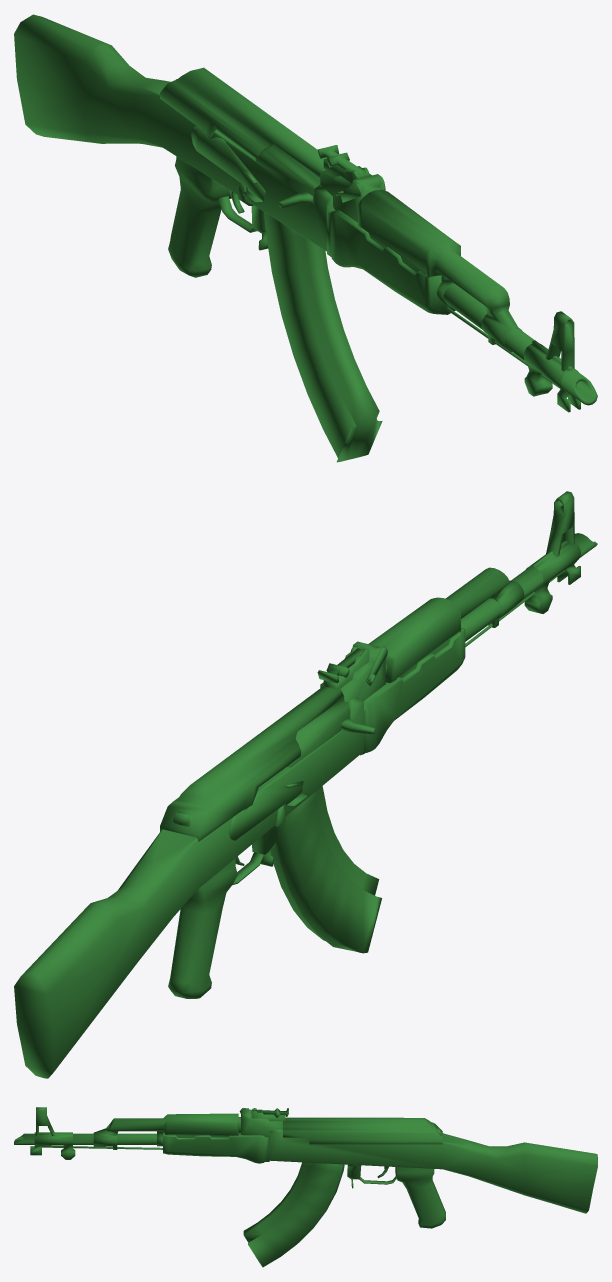
The model's file is Kalashnikov_L0.fbx.
3 views of the same model, one above another, from view 1: azimuth 30°, elevation 25°; view 2: azimuth 150°, elevation 25°; view 3: azimuth 270°, elevation 25° (orthographic). The views are drawn at different scales.
Parts seen in each view (by area): view 1: Kalashnikov, clip, Bolt; view 2: Kalashnikov, clip, Bolt; view 3: Kalashnikov, clip.
Part boxes in pixels (x1=…): Kalashnikov: x1=14, y1=14, x2=597, y2=412; clip: x1=264, y1=212, x2=382, y2=462; Bolt: x1=255, y1=144, x2=320, y2=207; Kalashnikov: x1=14, y1=491, x2=597, y2=1078; clip: x1=271, y1=786, x2=381, y2=953; Bolt: x1=287, y1=698, x2=374, y2=767; Kalashnikov: x1=14, y1=1107, x2=597, y2=1228; clip: x1=243, y1=1162, x2=344, y2=1267.
Size of the model in its own units: 0.0604 by 0.2568 by 0.8703.
